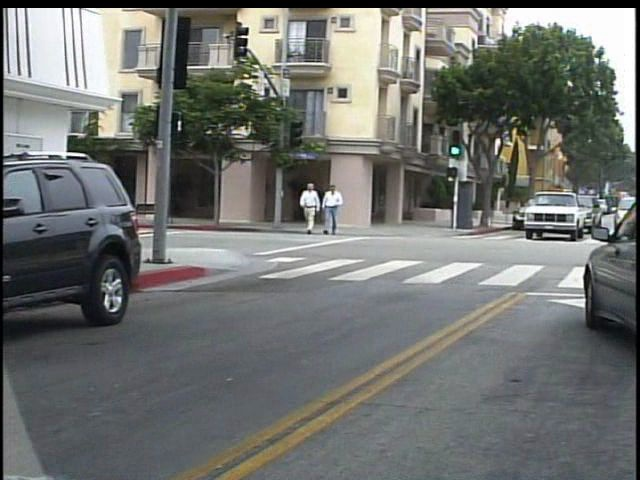person: (325, 180, 352, 239), (304, 178, 328, 241)
